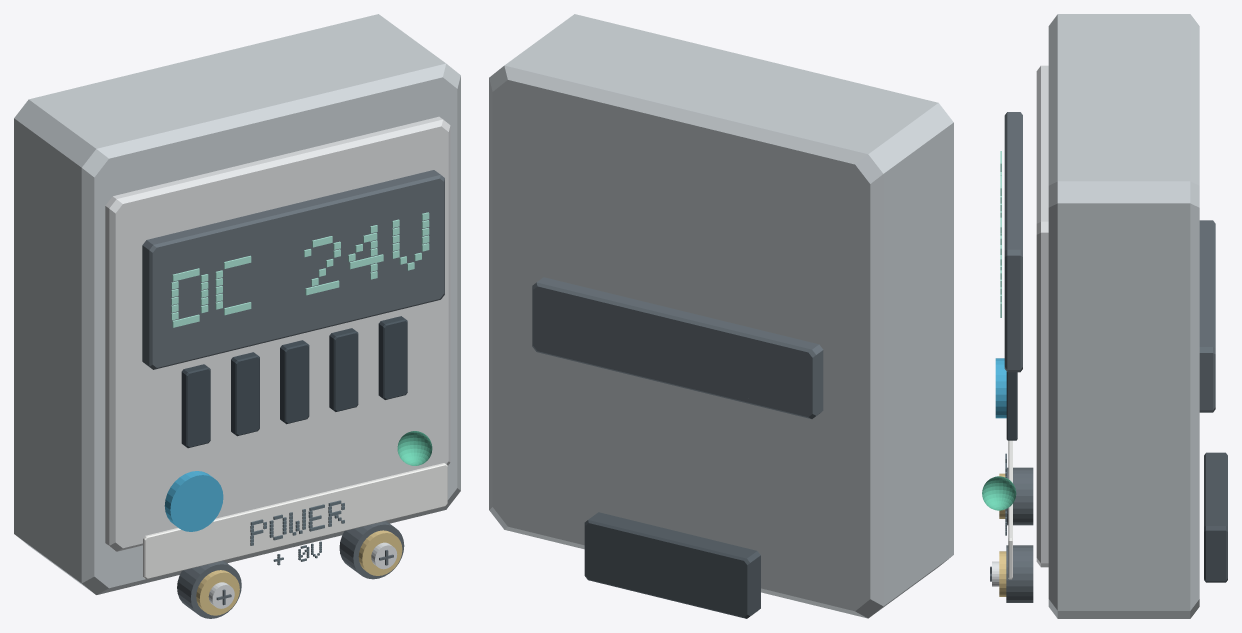
File: dcSupply.glb
3 views of the same model, side by side, from view 1: azimuth 30°, elevation 25°; view 2: azimuth 150°, elevation 25°; view 3: azimuth 270°, elevation 25° (orthographic). The views are drawn at different scales.
Parts seen in each view (by area): view 1: dcSupply-detailed; view 2: dcSupply-detailed; view 3: dcSupply-detailed.
Part boxes in pixels (<box>): dcSupply-detailed: <box>14,14,460,618</box>; dcSupply-detailed: <box>489,14,953,618</box>; dcSupply-detailed: <box>982,14,1227,618</box>.
Bounding box in the file's own units: 2.33 × 2.78 × 1.34.
